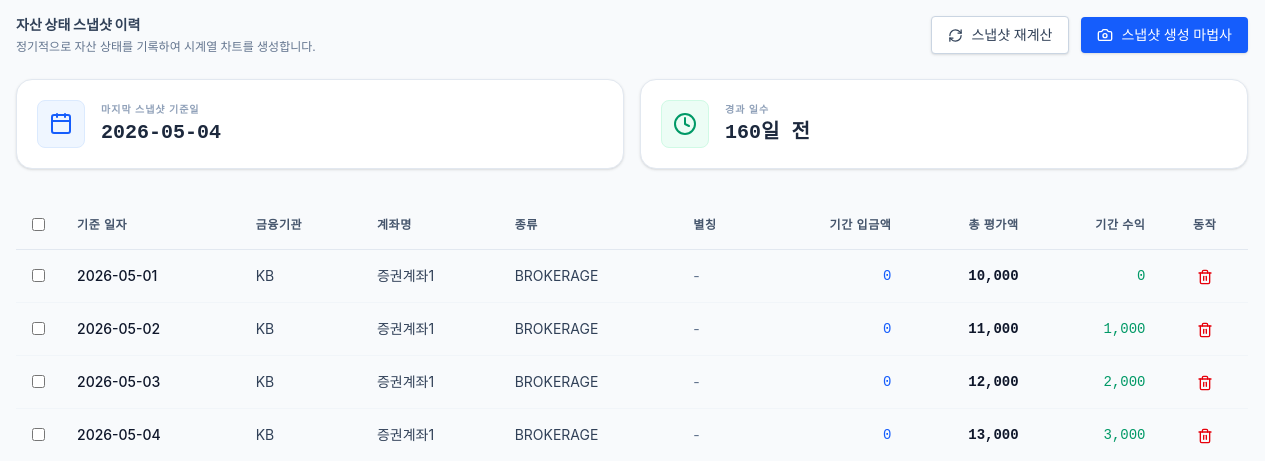
it: SnapshotsTab Component › 스냅샷 다중 선택 및 일괄 삭제 › 개별 행 체크박스 선택 시 상단 툴바에 선택 삭제 버튼이 활성화되어야 한다
# 1번째 행 선택
Click the checkbox named "행 선택". click: (38,276)
box: [32,269,45,282]
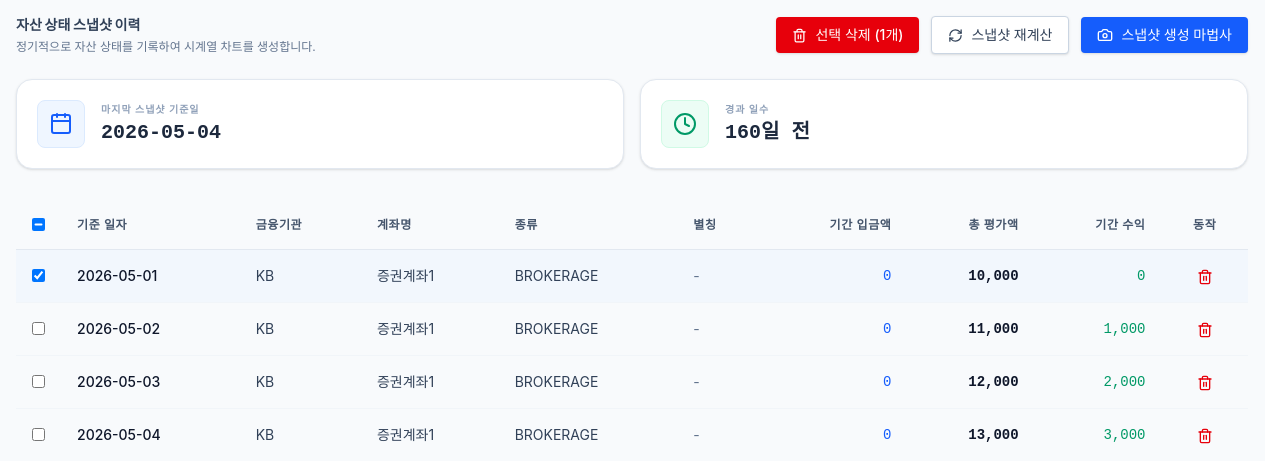
Expected: the checkbox named "행 선택" is checked, [32,269,45,282]
Expected: the button "선택 삭제 (1개)" is shown, [776,17,920,53]
